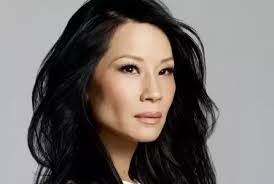asian_female: (66, 1, 221, 162)
